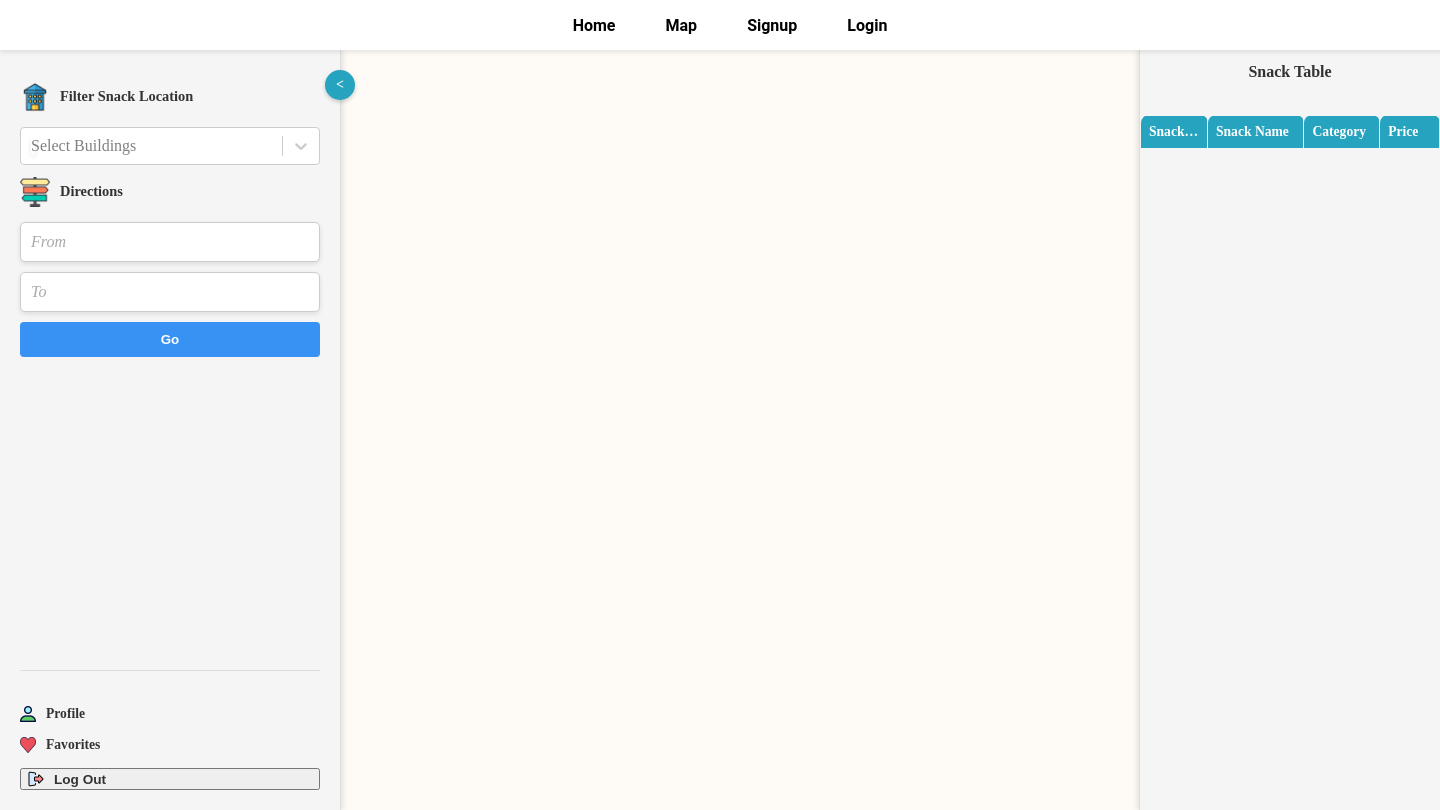
Scenario: MapPage Tests › should toggle sidebar open and closed
Click the text "<".
click(340, 85)  # box [325, 70, 355, 100]
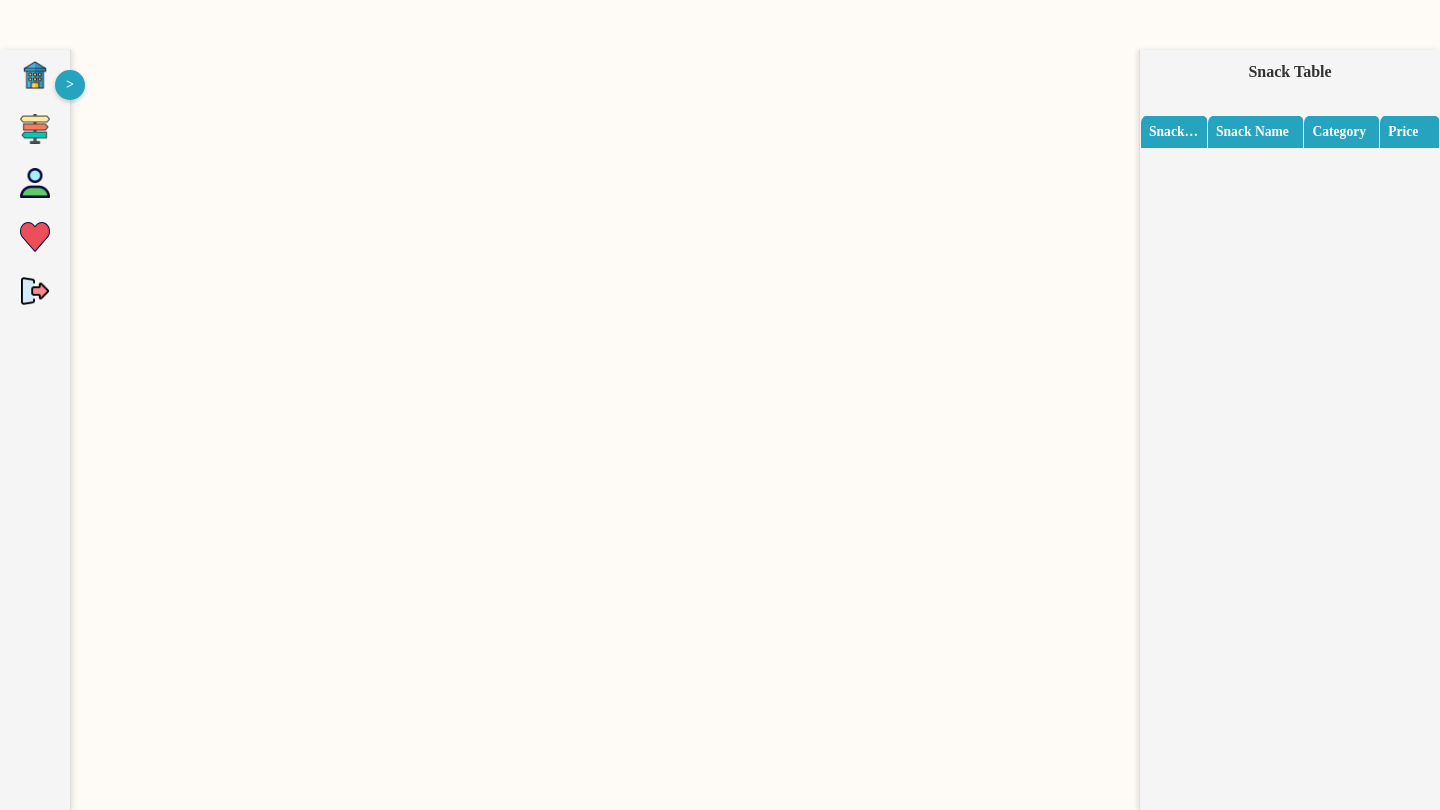
Check: the text ">" is shown
Click the text ">".
click(70, 85)  # box [55, 70, 85, 100]
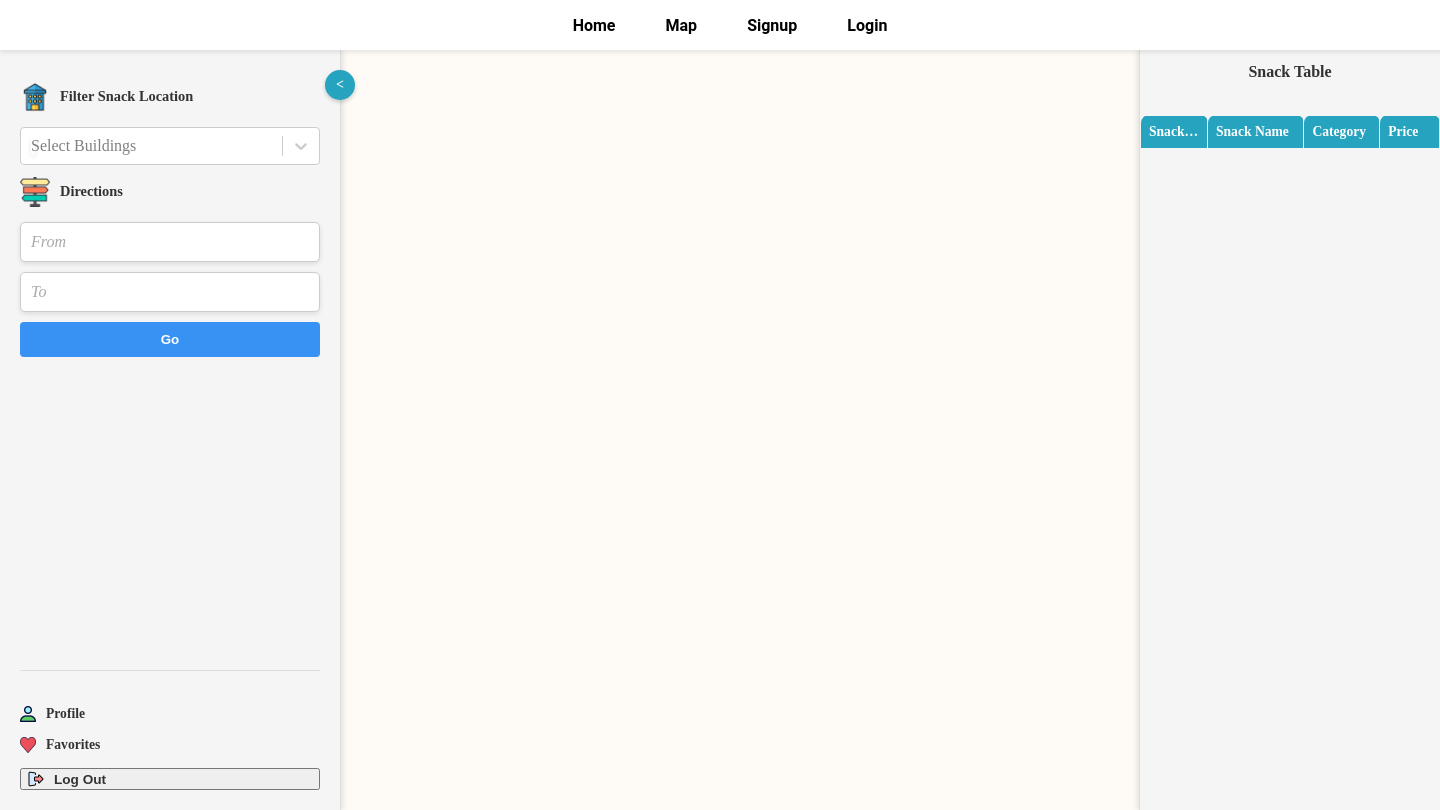
Check: the text "<" is shown, box [325, 70, 355, 100]
